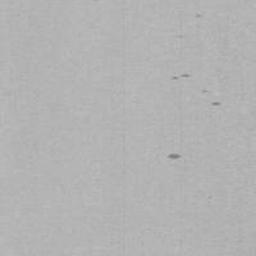Inclusion: (168, 153, 181, 159)
